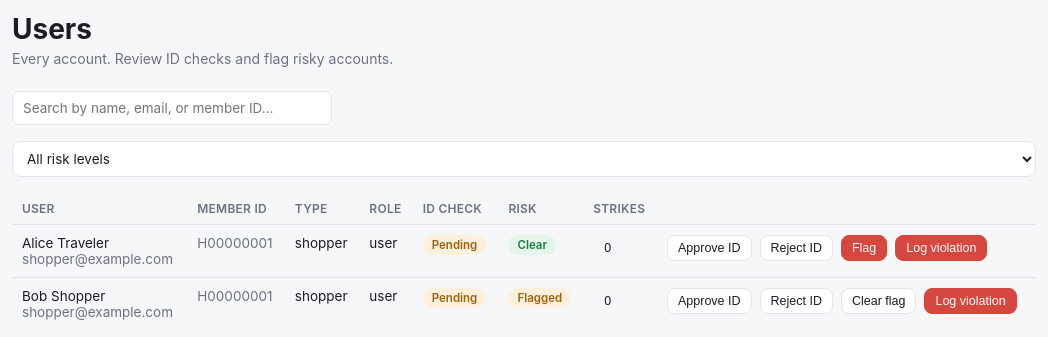
Test: UsersPage › filters the table by risk level
This screenshot has width=1048, height=337.
Expected: the text "Alice Traveler" is shown, [22, 235, 109, 251]
Expected: the text "Bob Shopper" is shown, [22, 288, 105, 304]
Select "Flagged" in the dropdown showing "All risk levels". click: [524, 159]
box: [12, 141, 1036, 177]
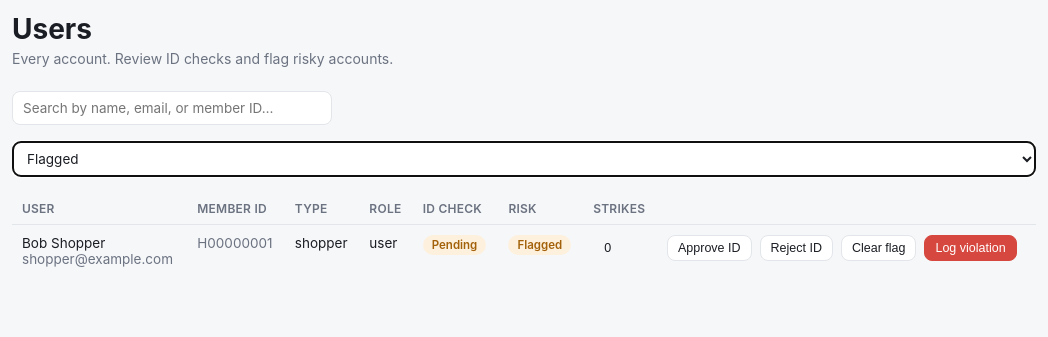
Expected: the text "Bob Shopper" is shown, [22, 235, 105, 251]
Now the text "Alice Traveler" is gone
